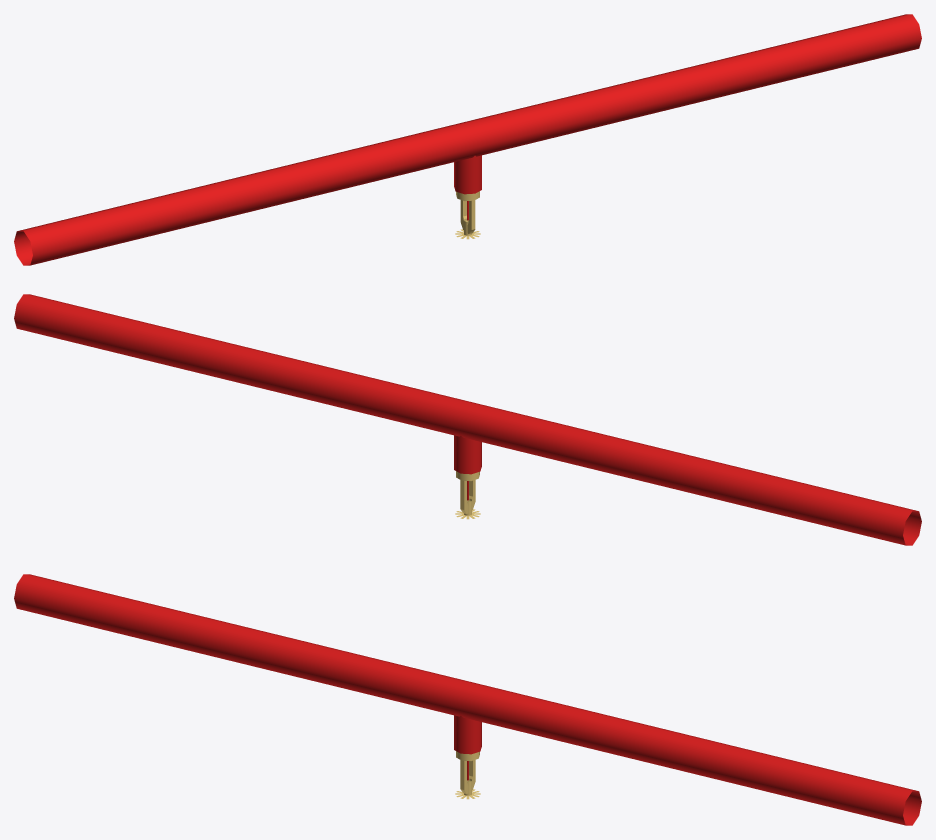
File: sprinklerMiddle.fbx
3 renders of one model, top to bottom at view 1: azimuth 30°, elevation 25°; view 2: azimuth 150°, elevation 25°; view 3: azimuth 330°, elevation 25°, orthographic.
Visible parts, largest first — view 1: sprinklerMiddle; view 2: sprinklerMiddle; view 3: sprinklerMiddle.
Boxes of the visible parts, left/top/right/bottom form: sprinklerMiddle: left=14, top=14, right=921, bottom=265; sprinklerMiddle: left=14, top=294, right=921, bottom=545; sprinklerMiddle: left=14, top=574, right=921, bottom=825.
Size of the model in its own units: 0.9593 by 0.1148 by 0.0356.
